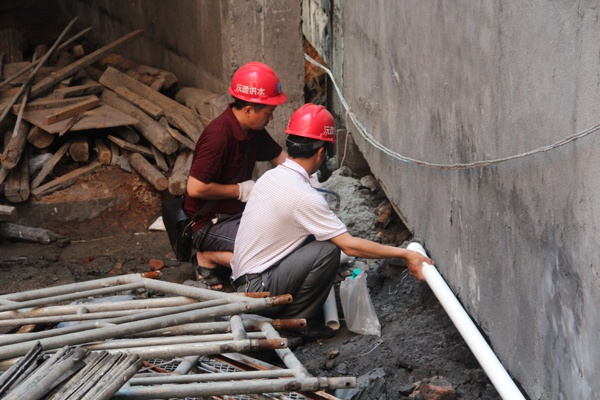red: (228, 60, 282, 129), (285, 104, 337, 165)
